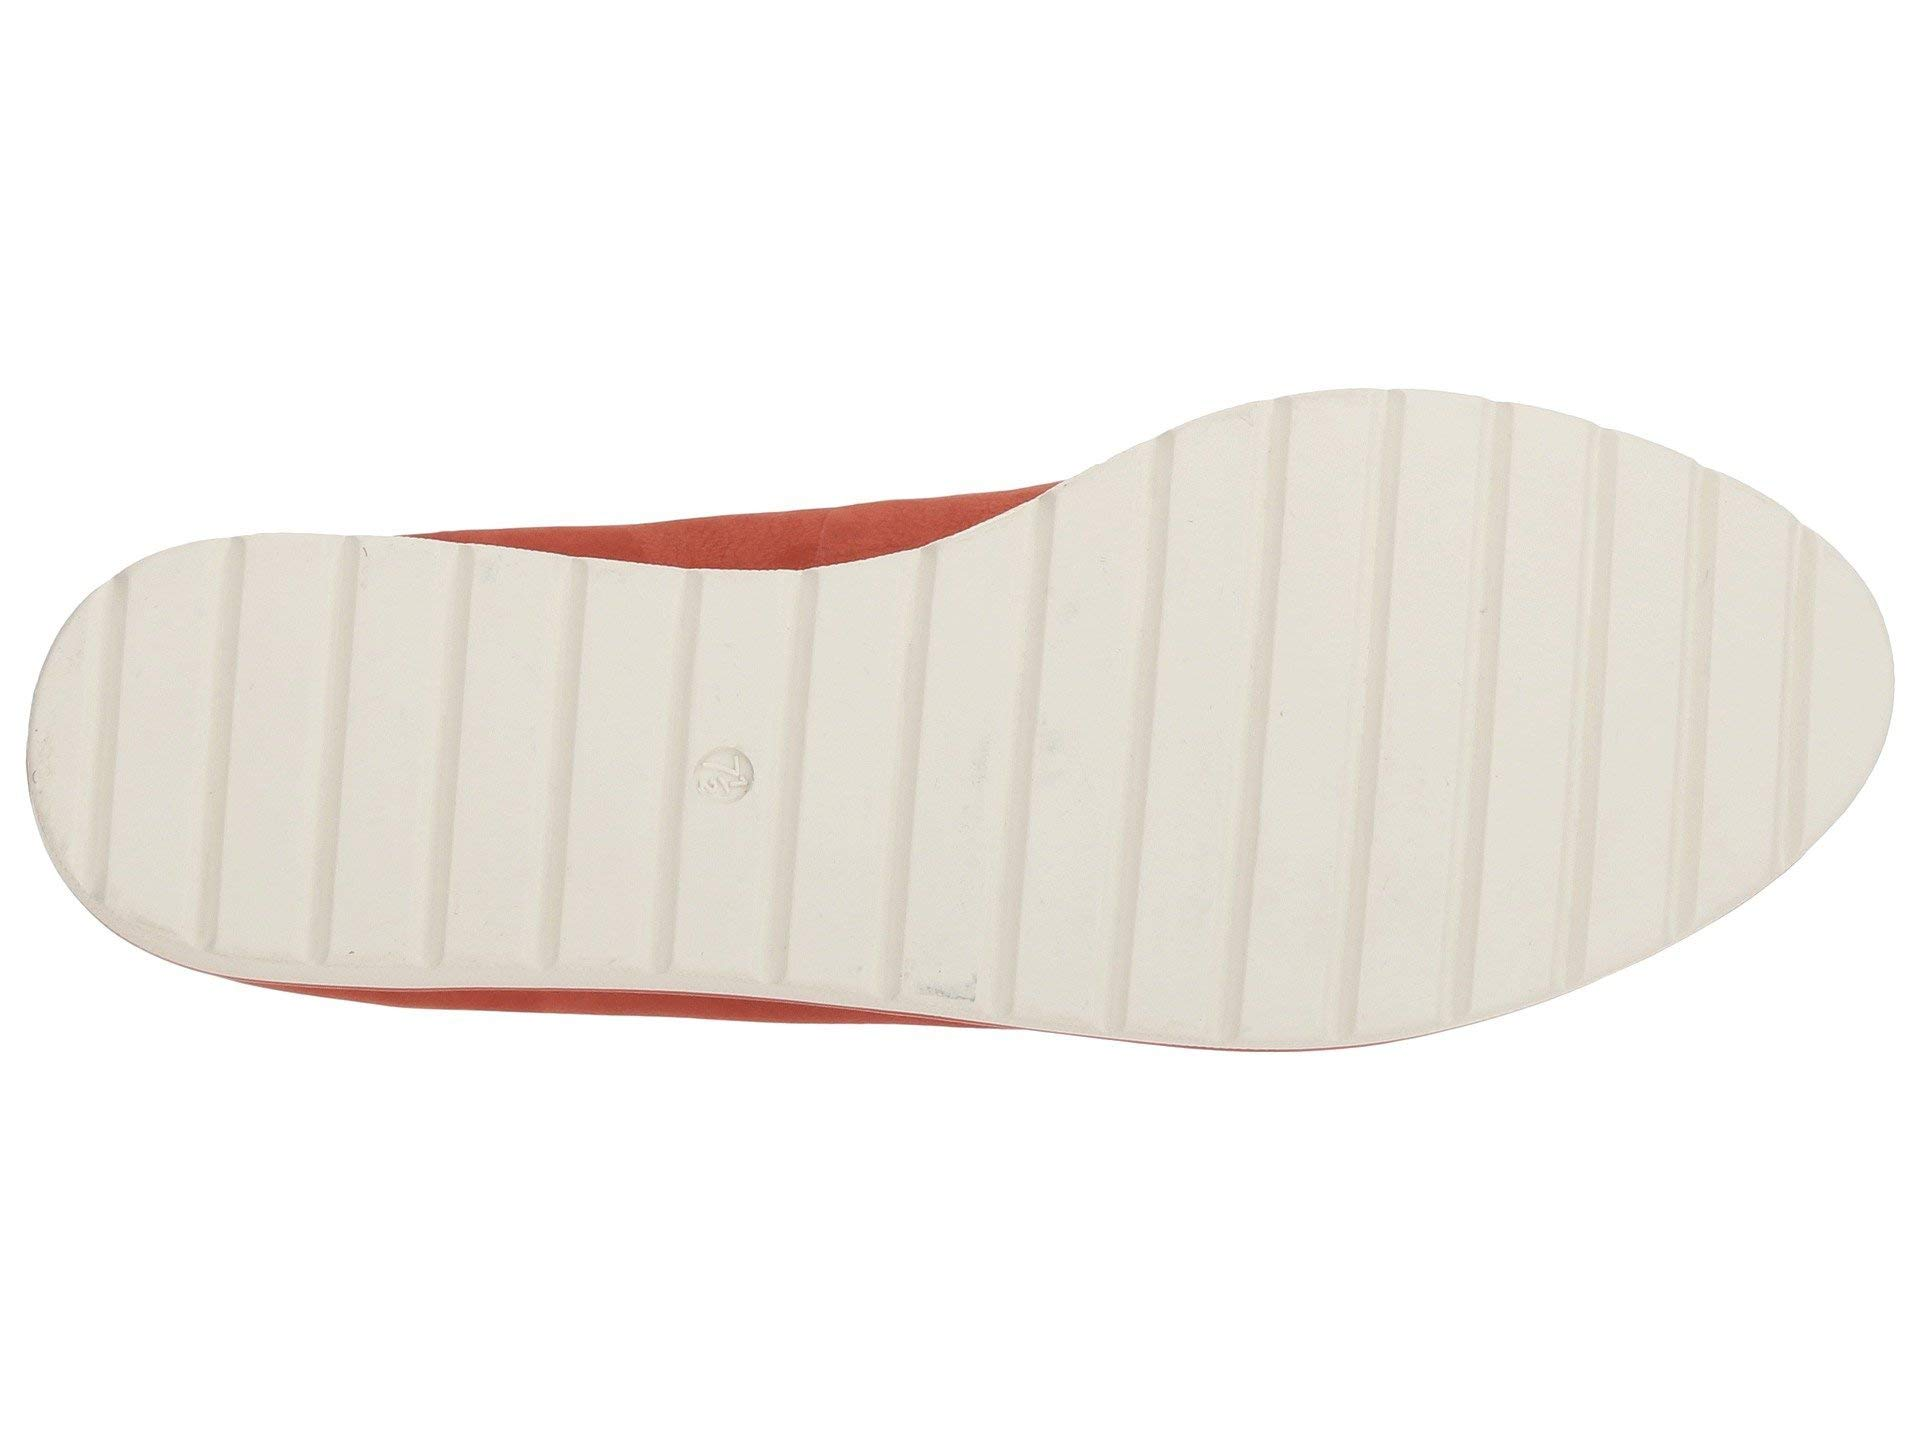circle: (649, 714, 872, 923)
line: (986, 554, 1469, 1030), (141, 575, 541, 956), (649, 714, 872, 923)
text: (649, 714, 872, 923)
